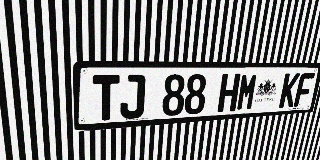8: (162, 74, 187, 116), (184, 74, 208, 115)
F: (293, 73, 315, 107)
H: (217, 74, 241, 112)
J: (120, 74, 146, 119)
K: (278, 73, 300, 108)
M: (236, 73, 259, 111)
T: (93, 75, 120, 121)
